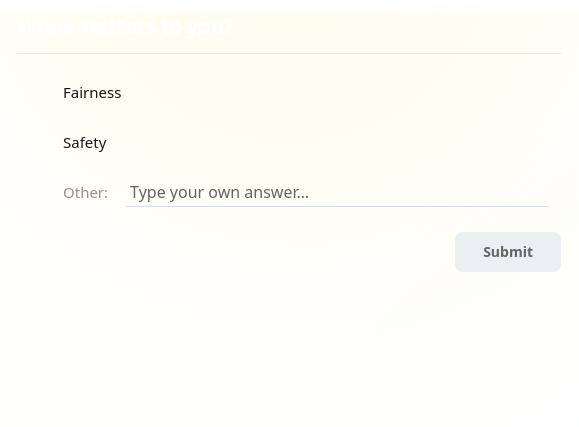
the MCQ Other assist › shows the underlined answer field before selection, and focusing it selects Others
The image size is (579, 427).
Focus the text box with test id "other-assist-suggestion": (338, 193) [126,179,549,207]
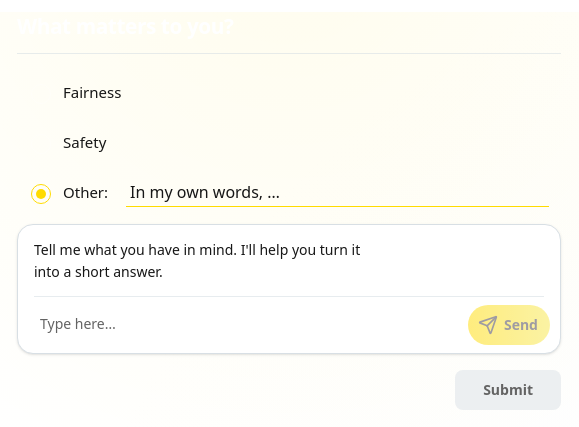
Check: the radio button labelled "Other:" is checked, box [17,170,122,216]
Check: the element with test id "other-assist" is shown, box [17,224,561,354]
